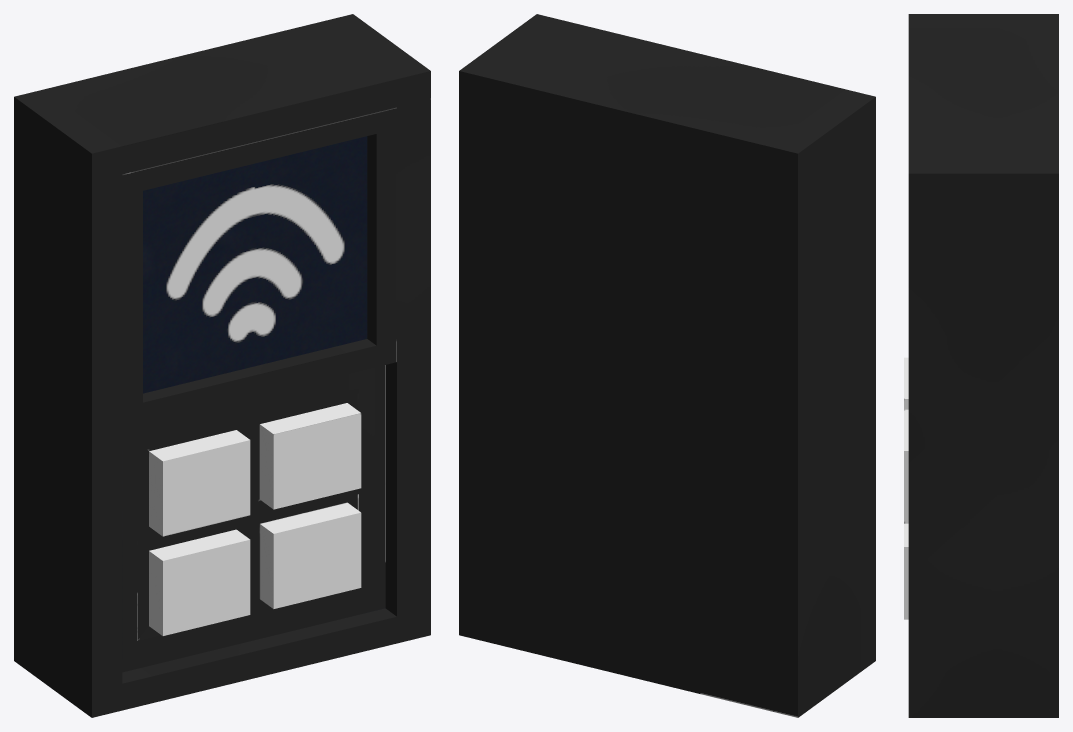
Rendered from Caja_llave.fbx.
The picture shows the model from 3 angles, left to right: view 1: azimuth 30°, elevation 25°; view 2: azimuth 150°, elevation 25°; view 3: azimuth 270°, elevation 25°; orthographic projection. The views are drawn at different scales.
Parts seen in each view (by area): view 1: Cube; view 2: Cube; view 3: Cube.
Part boxes in pixels (box(x1,y1,x2,y2)): Cube: box(14, 14, 430, 717); Cube: box(459, 14, 875, 717); Cube: box(904, 14, 1058, 717).
Size of the model in its own units: 243 by 386 by 99.48.
1 material, 1 textured.
